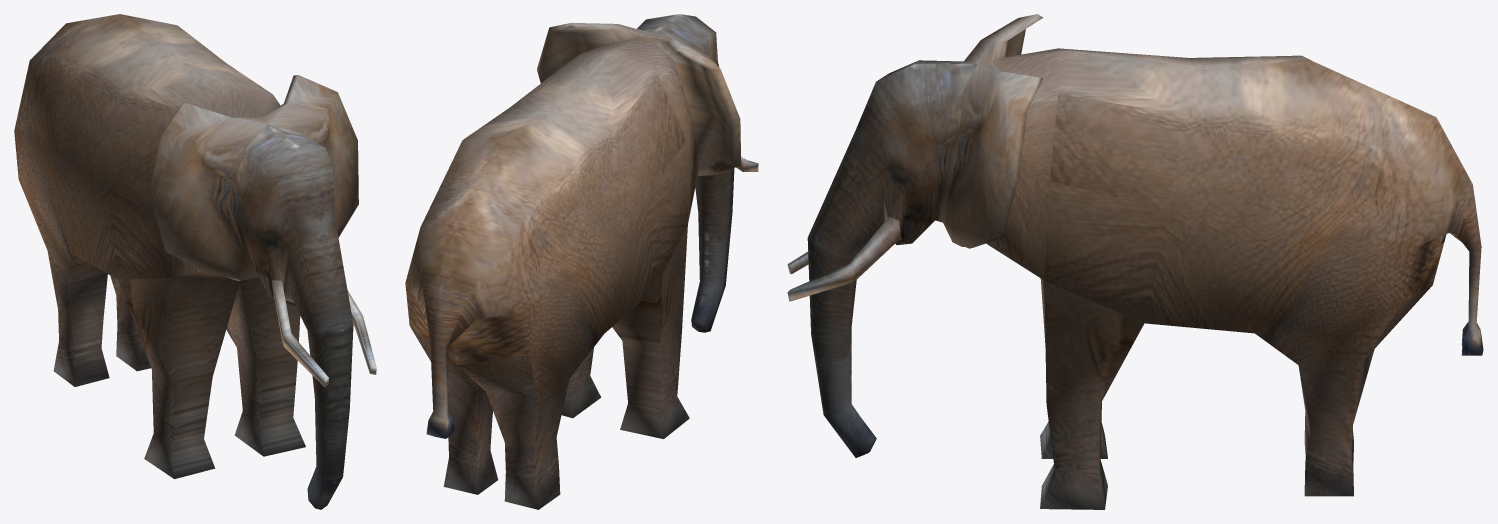
File: elephant.fbx
3 renders of one model, left to right at view 1: azimuth 30°, elevation 25°; view 2: azimuth 150°, elevation 25°; view 3: azimuth 270°, elevation 25°, orthographic. The views are drawn at different scales.
Parts seen in each view (by area): view 1: Elephant; view 2: Elephant; view 3: Elephant.
Boxes of the visible parts, x1,y1,x2,y2 form: Elephant: [14, 14, 376, 509]; Elephant: [405, 14, 758, 509]; Elephant: [787, 14, 1483, 509].
Size of the model in its own units: 0.6991 by 1.2 by 1.77.
